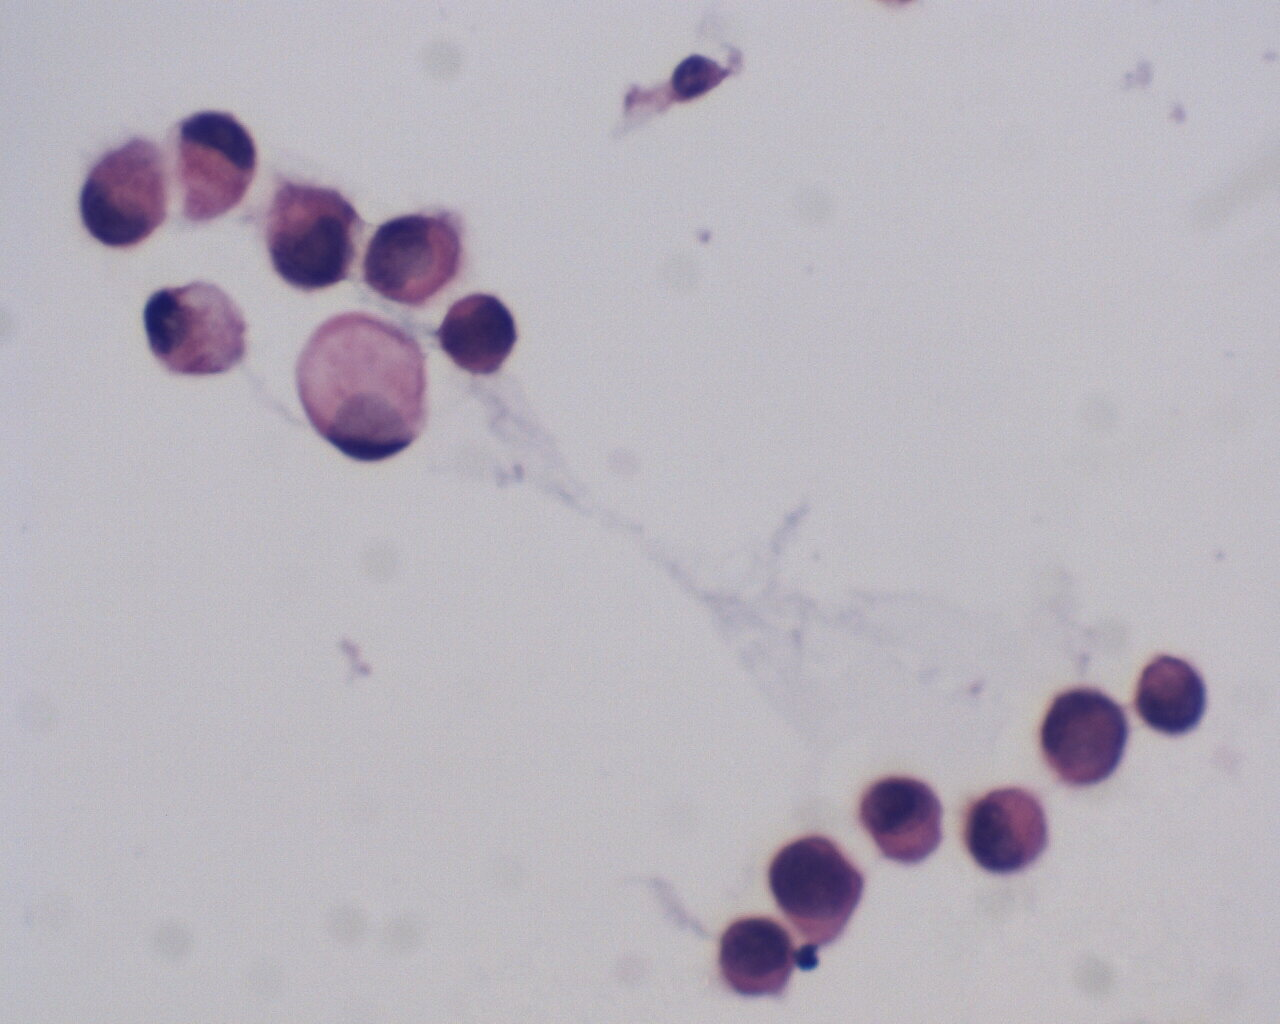ab: (764, 835, 867, 947), (259, 182, 360, 295), (365, 203, 465, 310), (1034, 686, 1131, 793), (965, 783, 1055, 872), (707, 914, 796, 1005), (857, 775, 945, 862), (436, 293, 520, 379), (1135, 653, 1214, 738)
histo: (295, 307, 434, 468), (135, 278, 256, 382)
